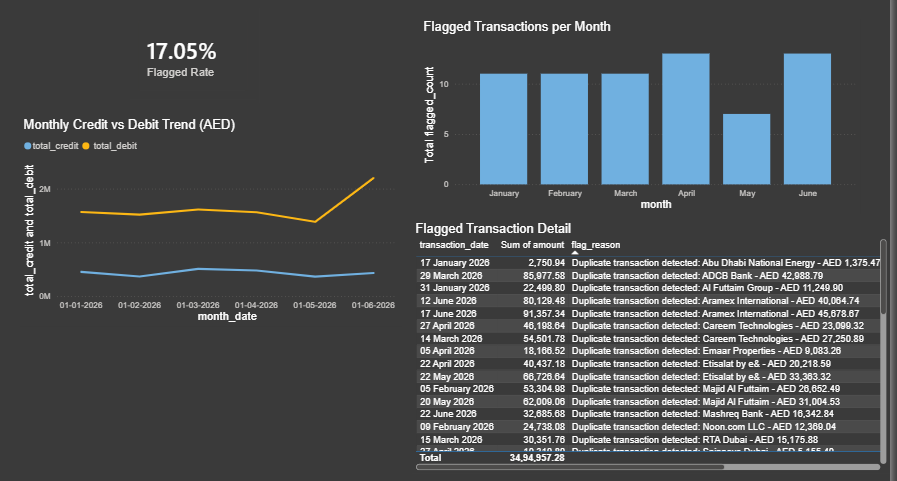

The dashboard page shown, as its layout file describes it:
{"tool":"powerbi","page":{"name":" Risk & Governance","canvas":[1280,720],"ordinal":1},"visuals":[{"type":"lineChart","title":"Monthly Credit vs Debit Trend (AED)","fields":{"Y":["Sum(gold_monthly_trends.total_credit)","Sum(gold_monthly_trends.total_debit)"],"Category":["gold_monthly_trends.month_date"]},"box":[37.7,178.3,546.4,298.6],"z":0},{"type":"clusteredColumnChart","title":"Flagged Transactions per Month","fields":{"Category":["gold_monthly_trends.month"],"Y":["Sum(gold_monthly_trends.flagged_count)"]},"box":[608.7,39.1,629,278.3],"z":1000},{"type":"tableEx","title":"Flagged Transaction Detail","fields":{"Values":["transactions.transaction_date","Sum(transactions.amount)","transactions.flag_reason","transactions.category","transactions.description"]},"box":[597.1,327.5,682.6,360.9],"z":1001},{"type":"cardVisual","fields":{"Data":["gold_flagged_summary.Flagged Rate"]},"box":[188.4,23.2,191.3,136.2],"z":1002}]}

Visuals, with their boxes on the page's 1280x720 design canvas (x1, y1, x2, y2). These are canvas units, not pixel positions in the 897x481 screenshot, which may show the page scaled, cropped or inside an application window:
"Monthly Credit vs Debit Trend (AED)" lineChart: <bbox>38, 178, 584, 477</bbox>
"Flagged Transactions per Month" clusteredColumnChart: <bbox>609, 39, 1238, 317</bbox>
"Flagged Transaction Detail" tableEx: <bbox>597, 328, 1280, 688</bbox>
cardVisual - gold_flagged_summary.Flagged Rate: <bbox>188, 23, 380, 159</bbox>
